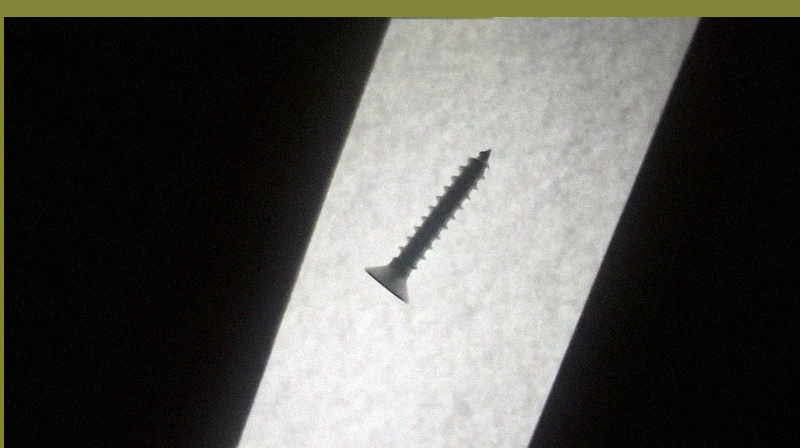S001: (358, 141, 494, 305)
